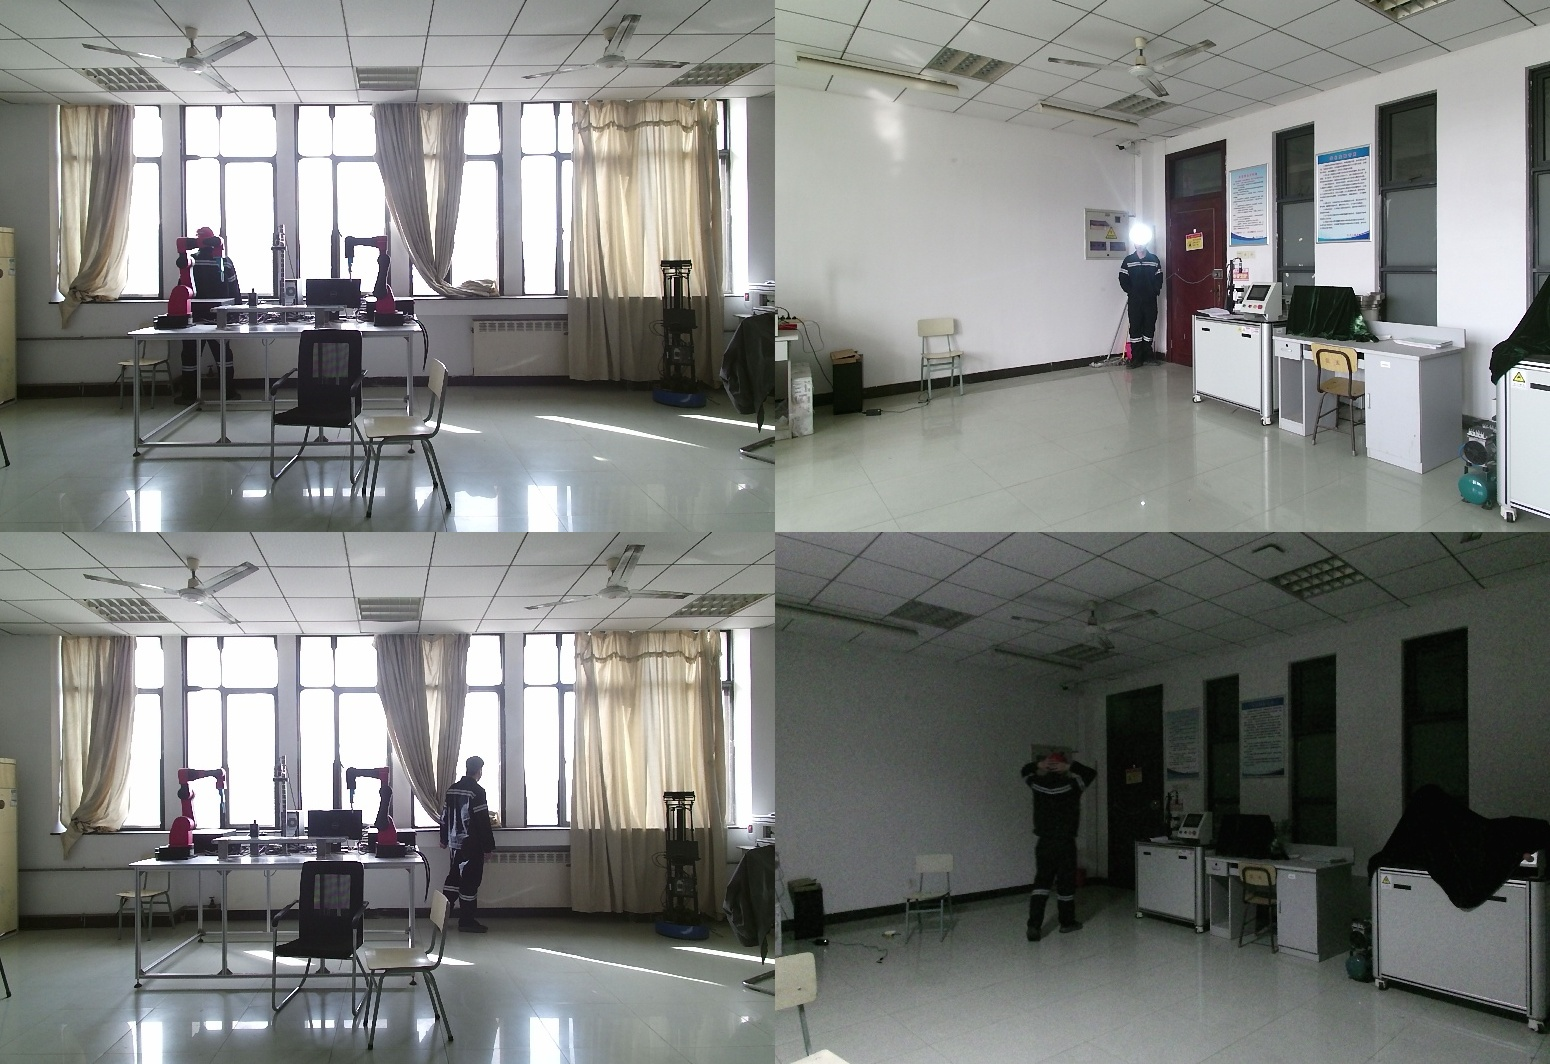person: (1011, 754, 1092, 952), (177, 226, 240, 409), (442, 757, 500, 944), (1119, 231, 1164, 369)
